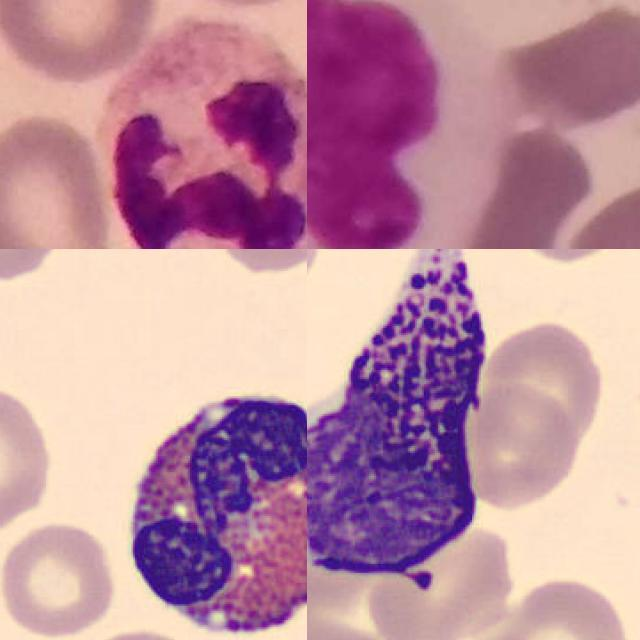Basophil: (307, 249, 498, 594)
Eosinophil: (111, 373, 307, 640)
Monocyte: (307, 0, 500, 249)
Neutrophil: (103, 20, 307, 249)
RBC: (363, 520, 520, 640), (474, 317, 607, 458), (461, 381, 584, 513), (0, 518, 118, 640), (466, 573, 632, 640), (0, 378, 56, 533), (202, 249, 307, 276)
